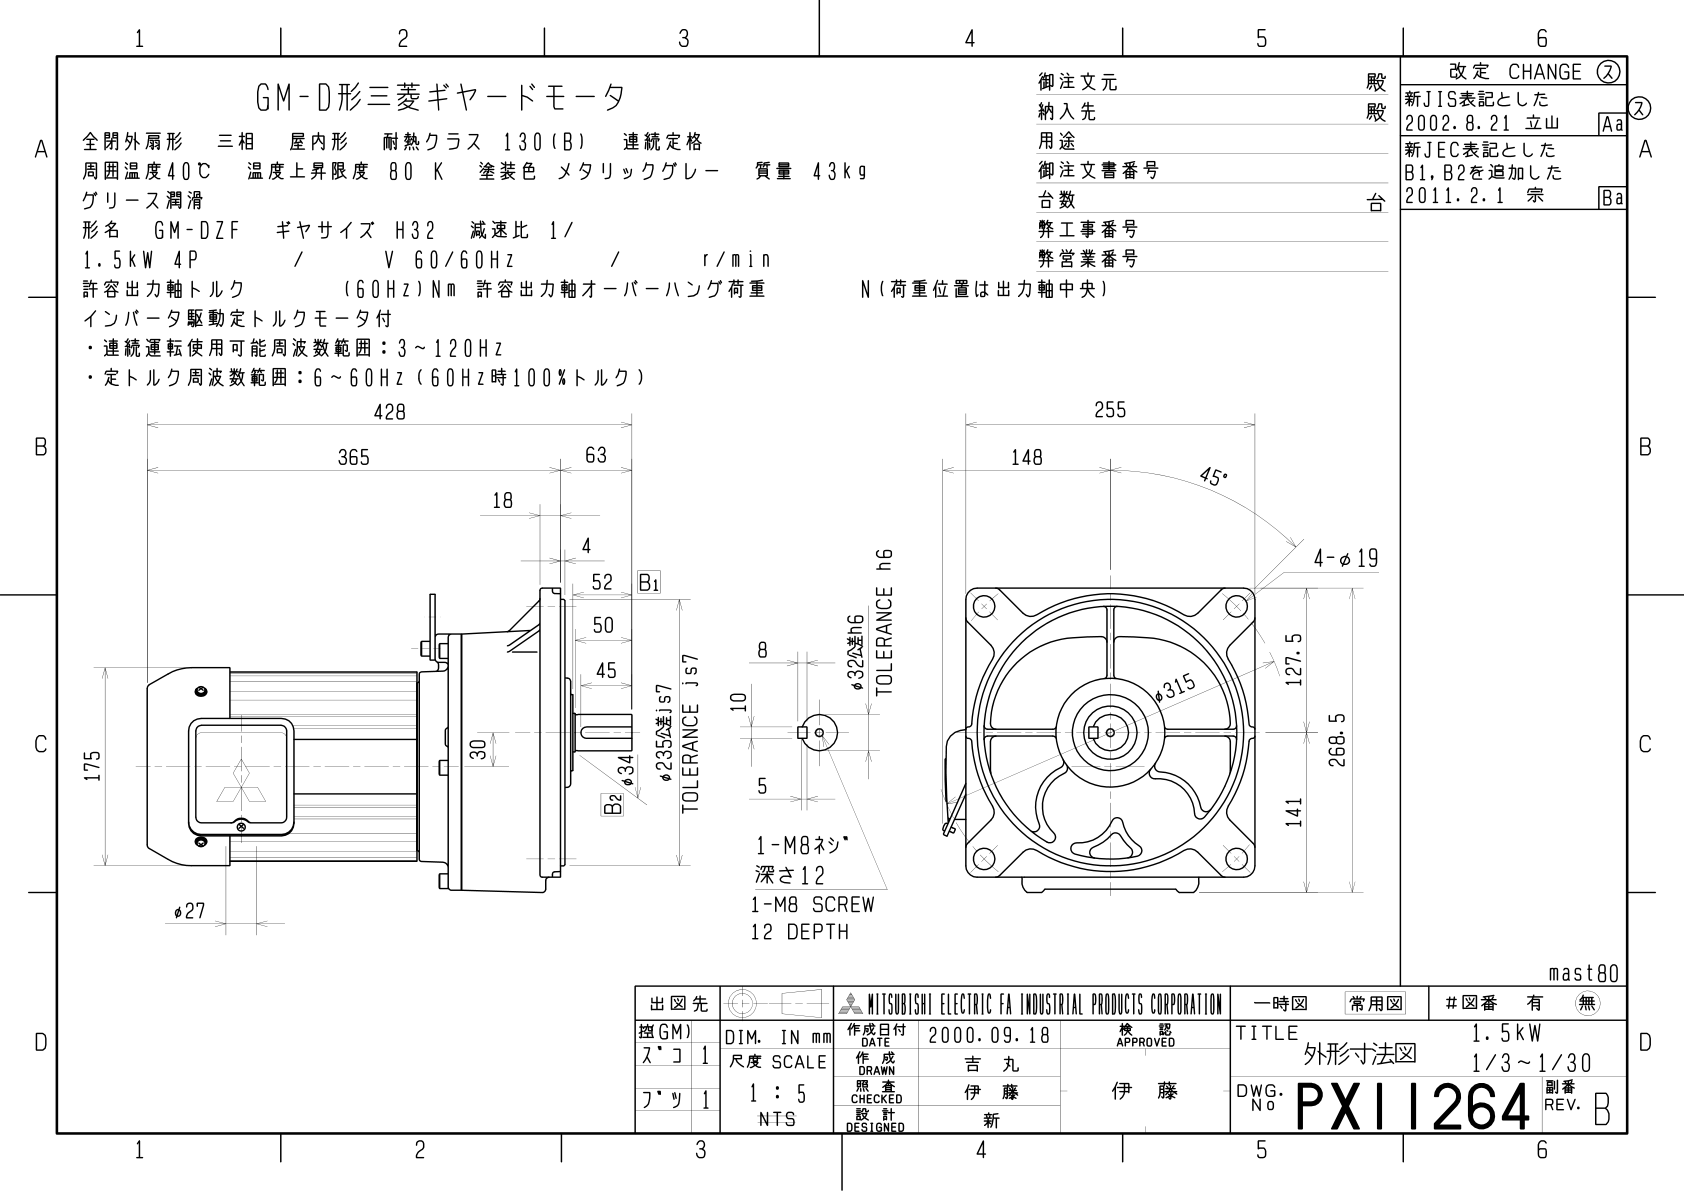GM_D_インバータ屋内_三相_フランジ: (64, 392, 1393, 956)
